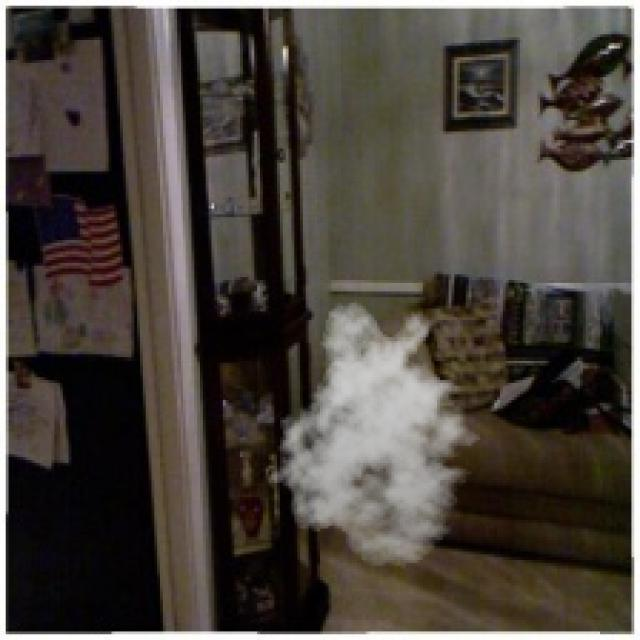Smoke: (266, 300, 492, 569)
